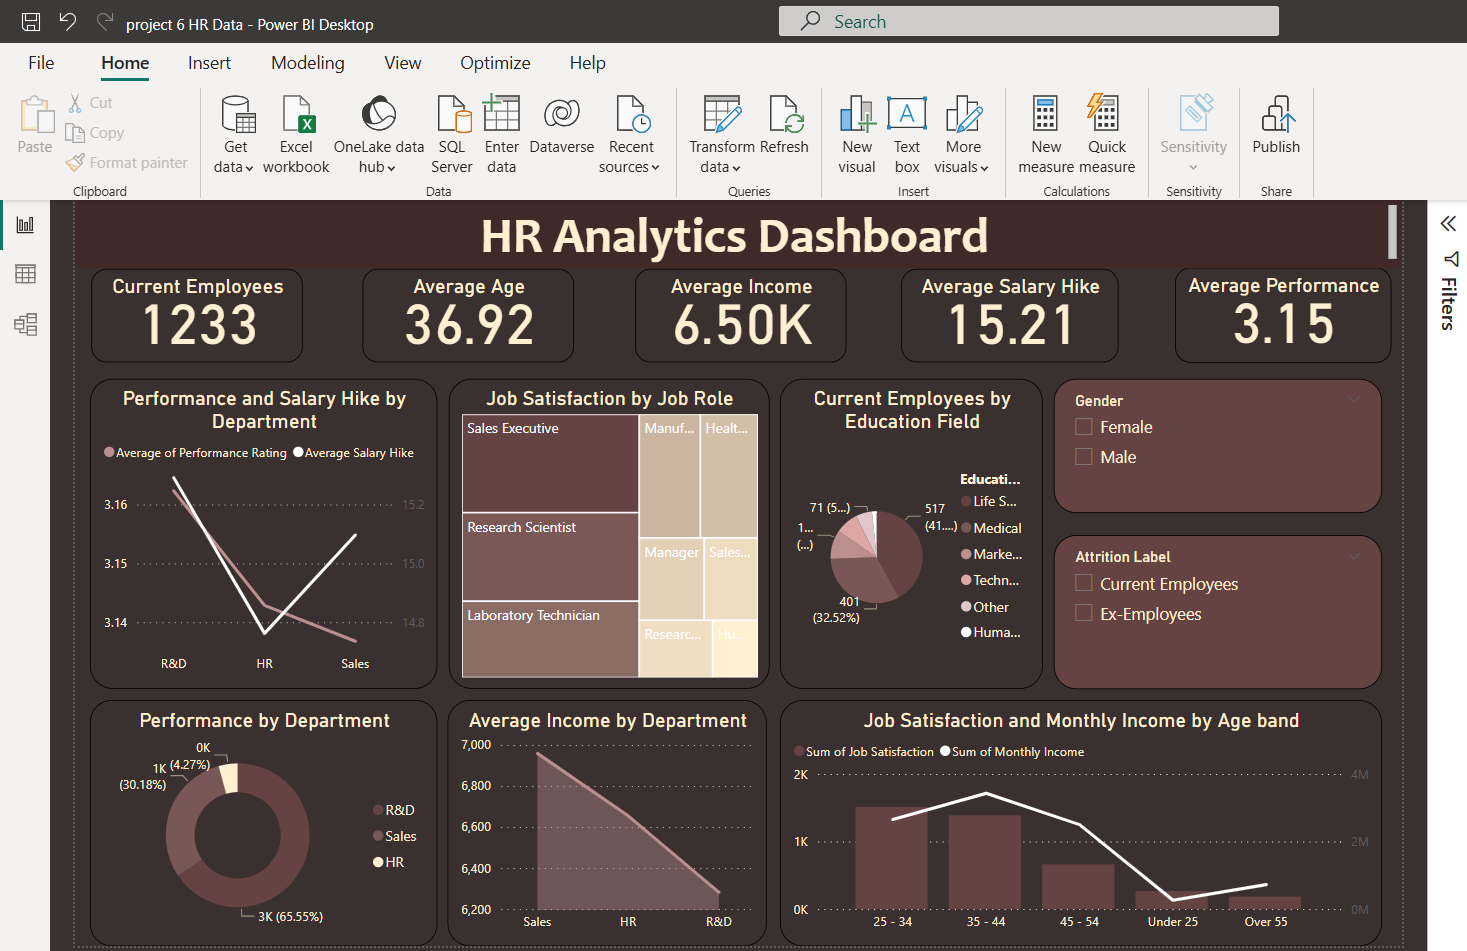

What the dashboard file says about the page in this screenshot:
{"tool":"powerbi","page":{"name":"Page 1","canvas":[1280,720],"ordinal":0},"visuals":[{"type":"card","title":"Current Employees","fields":{"Values":["Dax Measure.Total Employee"]},"box":[15.1,65.8,204.3,90.5],"z":0},{"type":"card","title":"Average Age","fields":{"Values":["Dax Measure.Average Age"]},"box":[277.6,65.8,204.3,90.5],"z":1000},{"type":"card","title":"Average Income","fields":{"Values":["Dax Measure.Average Income"]},"box":[540.2,65.8,204.3,90.5],"z":2000},{"type":"card","title":"Average Salary Hike","fields":{"Values":["Dax Measure.Average Salary Hike"]},"box":[797.2,66.3,209.8,90.5],"z":3000},{"type":"card","title":"Average Performance","fields":{"Values":["Dax Measure.Average Performance"]},"box":[1061.3,65.1,208.6,91.7],"z":4000},{"type":"lineChart","title":" Performance and Salary Hike by Department","fields":{"Y":["Avg(HR data.Performance Rating)"],"Y2":["Dax Measure.Average Salary Hike"],"Category":["HR data.Department"]},"box":[14.8,172.5,335.2,299.5],"z":5000},{"type":"pieChart","fields":{"Y":["Dax Measure.Total Employee"],"Category":["HR data.Education Field"]},"box":[680.3,172.5,253.9,299.5],"z":6000},{"type":"treemap","title":"Job Satisfaction by Job Role","fields":{"Group":["HR data.Job Role","HR data.Department"],"Values":["Sum(HR data.Job Satisfaction)"]},"box":[360.5,172.5,309.3,299.5],"z":7000},{"type":"lineClusteredColumnComboChart","title":"Job Satisfaction and Monthly Income by Age band","fields":{"Category":["HR data.CF_age band"],"Y":["Sum(HR data.Job Satisfaction)"],"Y2":["Sum(HR data.Monthly Income)"]},"box":[680.3,481.9,580.5,237.9],"z":8000},{"type":"donutChart","title":"Performance by Department","fields":{"Y":["Sum(HR data.Performance Rating)"],"Category":["HR data.Department"]},"box":[14.8,481.9,335.2,237.9],"z":9000},{"type":"areaChart","fields":{"Y":["Dax Measure.Average Income"],"Category":["HR data.Department"]},"box":[359.9,481.9,308.1,237.9],"z":10000},{"type":"slicer","fields":{"Values":["HR data.Gender"]},"box":[944,172.5,316.7,129.4],"z":11000},{"type":"slicer","fields":{"Values":["HR data.CF_attrition label"]},"box":[944,322.9,316.7,149.1],"z":12000},{"type":"textbox","box":[0,0,1280.5,65.3],"z":13000}]}

Visuals, with their boxes on the page's 1280x720 design canvas (x1, y1, x2, y2). These are canvas units, not pixel positions in the 1467x951 screenshot, which may show the page scaled, cropped or inside an application window:
"Current Employees" card: 15 66 219 156
"Average Age" card: 278 66 482 156
"Average Income" card: 540 66 744 156
"Average Salary Hike" card: 797 66 1007 157
"Average Performance" card: 1061 65 1270 157
" Performance and Salary Hike by Department" lineChart: 15 172 350 472
pieChart - Dax Measure.Total Employee x HR data.Education Field: 680 172 934 472
"Job Satisfaction by Job Role" treemap: 360 172 670 472
"Job Satisfaction and Monthly Income by Age band" lineClusteredColumnComboChart: 680 482 1261 720
"Performance by Department" donutChart: 15 482 350 720
areaChart - Dax Measure.Average Income x HR data.Department: 360 482 668 720
slicer - HR data.Gender: 944 172 1261 302
slicer - HR data.CF_attrition label: 944 323 1261 472
textbox: 0 0 1280 65
